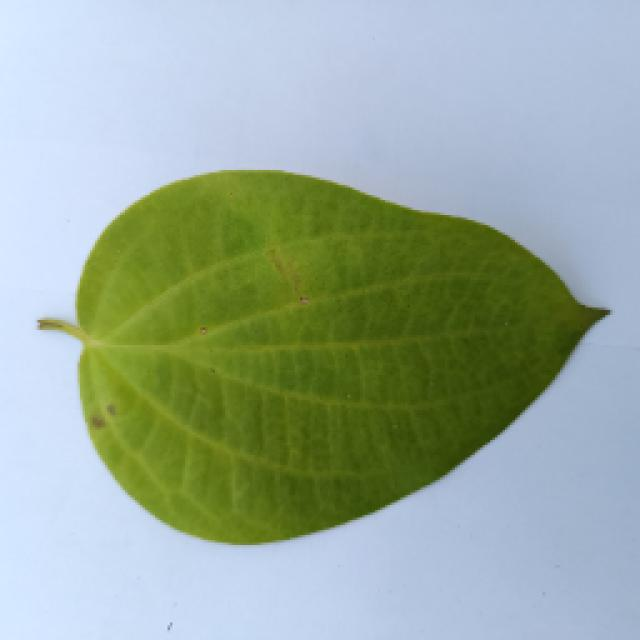slow-decline: (28, 165, 610, 550)
